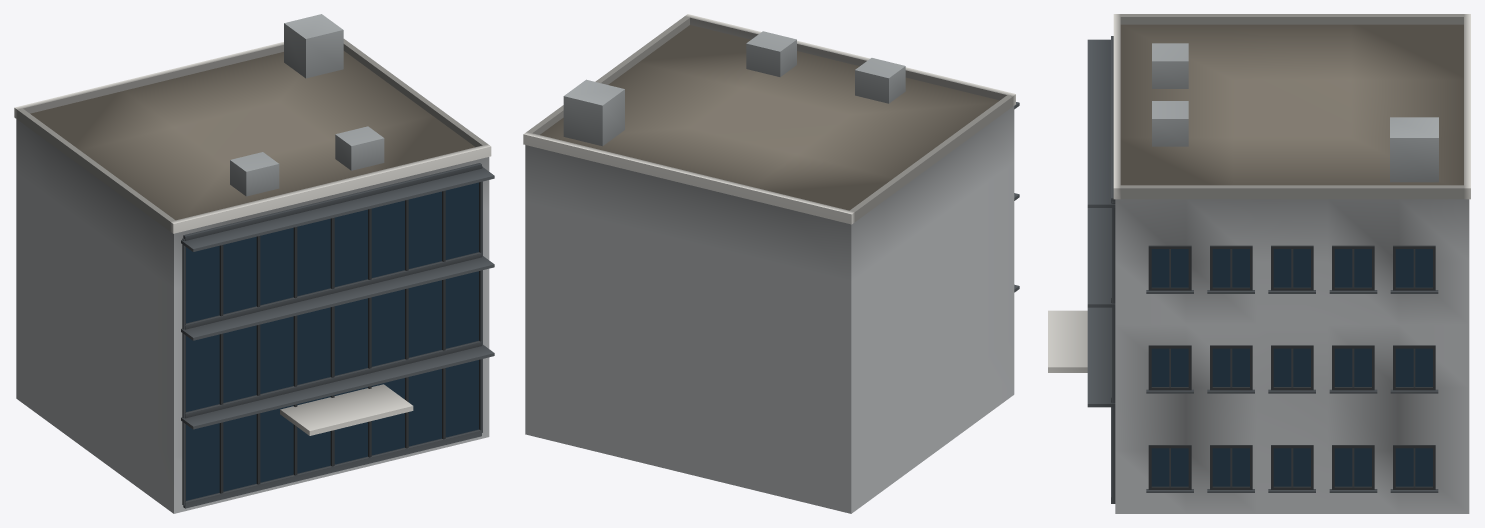
The model's file is oficinas-B_SChBjd.glb.
3 renders of one model, left to right at view 1: azimuth 30°, elevation 25°; view 2: azimuth 150°, elevation 25°; view 3: azimuth 270°, elevation 25°, orthographic. The views are drawn at different scales.
Visible parts, largest first — view 1: pieza.006, pieza, pieza.001, pieza.002, pieza.021, pieza.020, pieza.022, pieza.023, pieza.026, pieza.003, pieza.004, pieza.016 (+15 smaller); view 2: pieza, pieza.001, pieza.003, pieza.026, pieza.002, pieza.004, pieza.025, pieza.024, pieza.005; view 3: pieza, pieza.001, pieza.005, pieza.022, pieza.004, pieza.026, pieza.023, pieza.020, pieza.021, pieza.024, pieza.025, pieza.002 (+18 smaller).
Boxes of the visible parts, x1,y1,x2,y2 form: pieza.006: [186, 182, 478, 500]; pieza: [16, 119, 489, 513]; pieza.001: [30, 51, 475, 220]; pieza.002: [170, 144, 491, 233]; pieza.021: [181, 256, 494, 340]; pieza.020: [181, 345, 494, 429]; pieza.022: [181, 167, 494, 251]; pieza.023: [280, 384, 413, 435]; pieza.026: [284, 14, 343, 78]; pieza.003: [14, 42, 283, 119]; pieza.004: [17, 108, 175, 230]; pieza.016: [183, 429, 481, 508]; pieza: [525, 106, 1014, 513]; pieza.001: [540, 25, 999, 210]; pieza.003: [523, 132, 854, 224]; pieza.026: [563, 79, 624, 146]; pieza.002: [685, 14, 1015, 106]; pieza.004: [850, 95, 1012, 221]; pieza.025: [746, 31, 796, 76]; pieza.024: [855, 58, 905, 103]; pieza.005: [527, 16, 689, 134]; pieza: [1115, 199, 1469, 513]; pieza.001: [1120, 24, 1463, 185]; pieza.005: [1120, 185, 1463, 199]; pieza.022: [1087, 39, 1115, 207]; pieza.004: [1120, 14, 1463, 24]; pieza.026: [1390, 117, 1438, 182]; pieza.023: [1048, 310, 1087, 372]; pieza.020: [1087, 307, 1115, 407]; pieza.021: [1087, 208, 1115, 307]; pieza.024: [1152, 43, 1188, 88]; pieza.025: [1152, 101, 1188, 146]; pieza.002: [1113, 14, 1120, 199].
Bounding box in the file's own units: 13.61 × 13.12 × 13.85.
